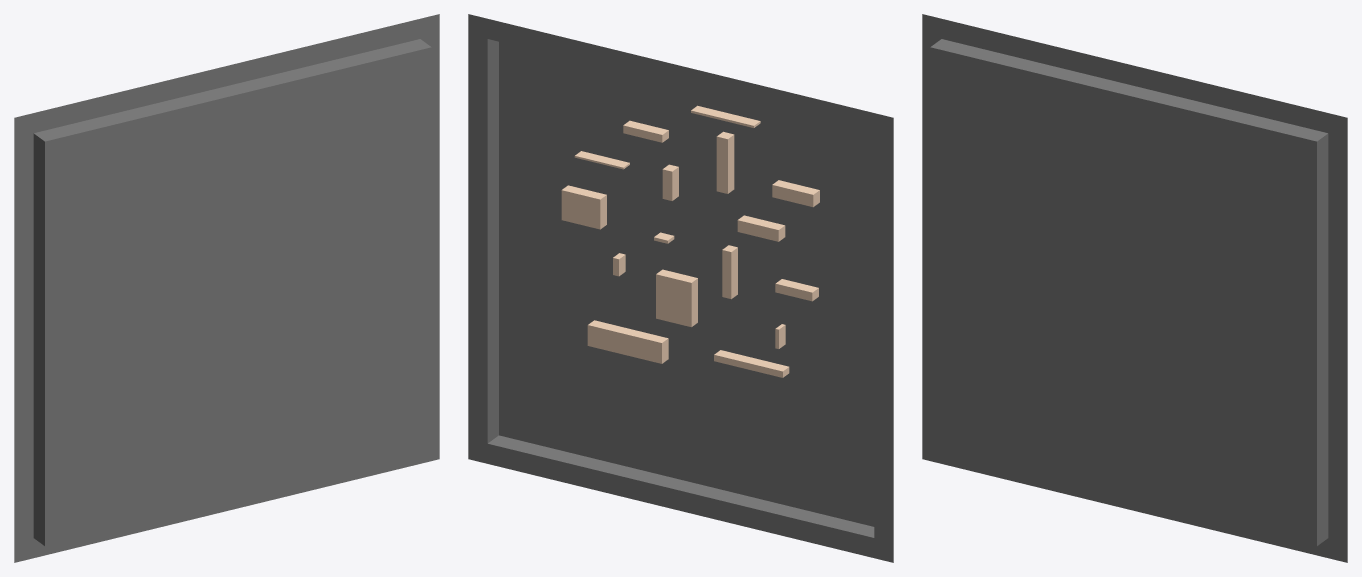
File: TrainingMap.fbx
3 views of the same model, side by side, from view 1: azimuth 30°, elevation 25°; view 2: azimuth 150°, elevation 25°; view 3: azimuth 330°, elevation 25° (orthographic).
Parts seen in each view (by area): view 1: Ground; view 2: Ground, Wall; view 3: Ground.
Part boxes in pixels (<box>): Ground: <box>14,14,439,562</box>; Ground: <box>468,14,893,562</box>; Wall: <box>561,105,819,377</box>; Ground: <box>922,14,1347,562</box>.
Bounding box in the file's own units: 17323 × 17323 × 799.
